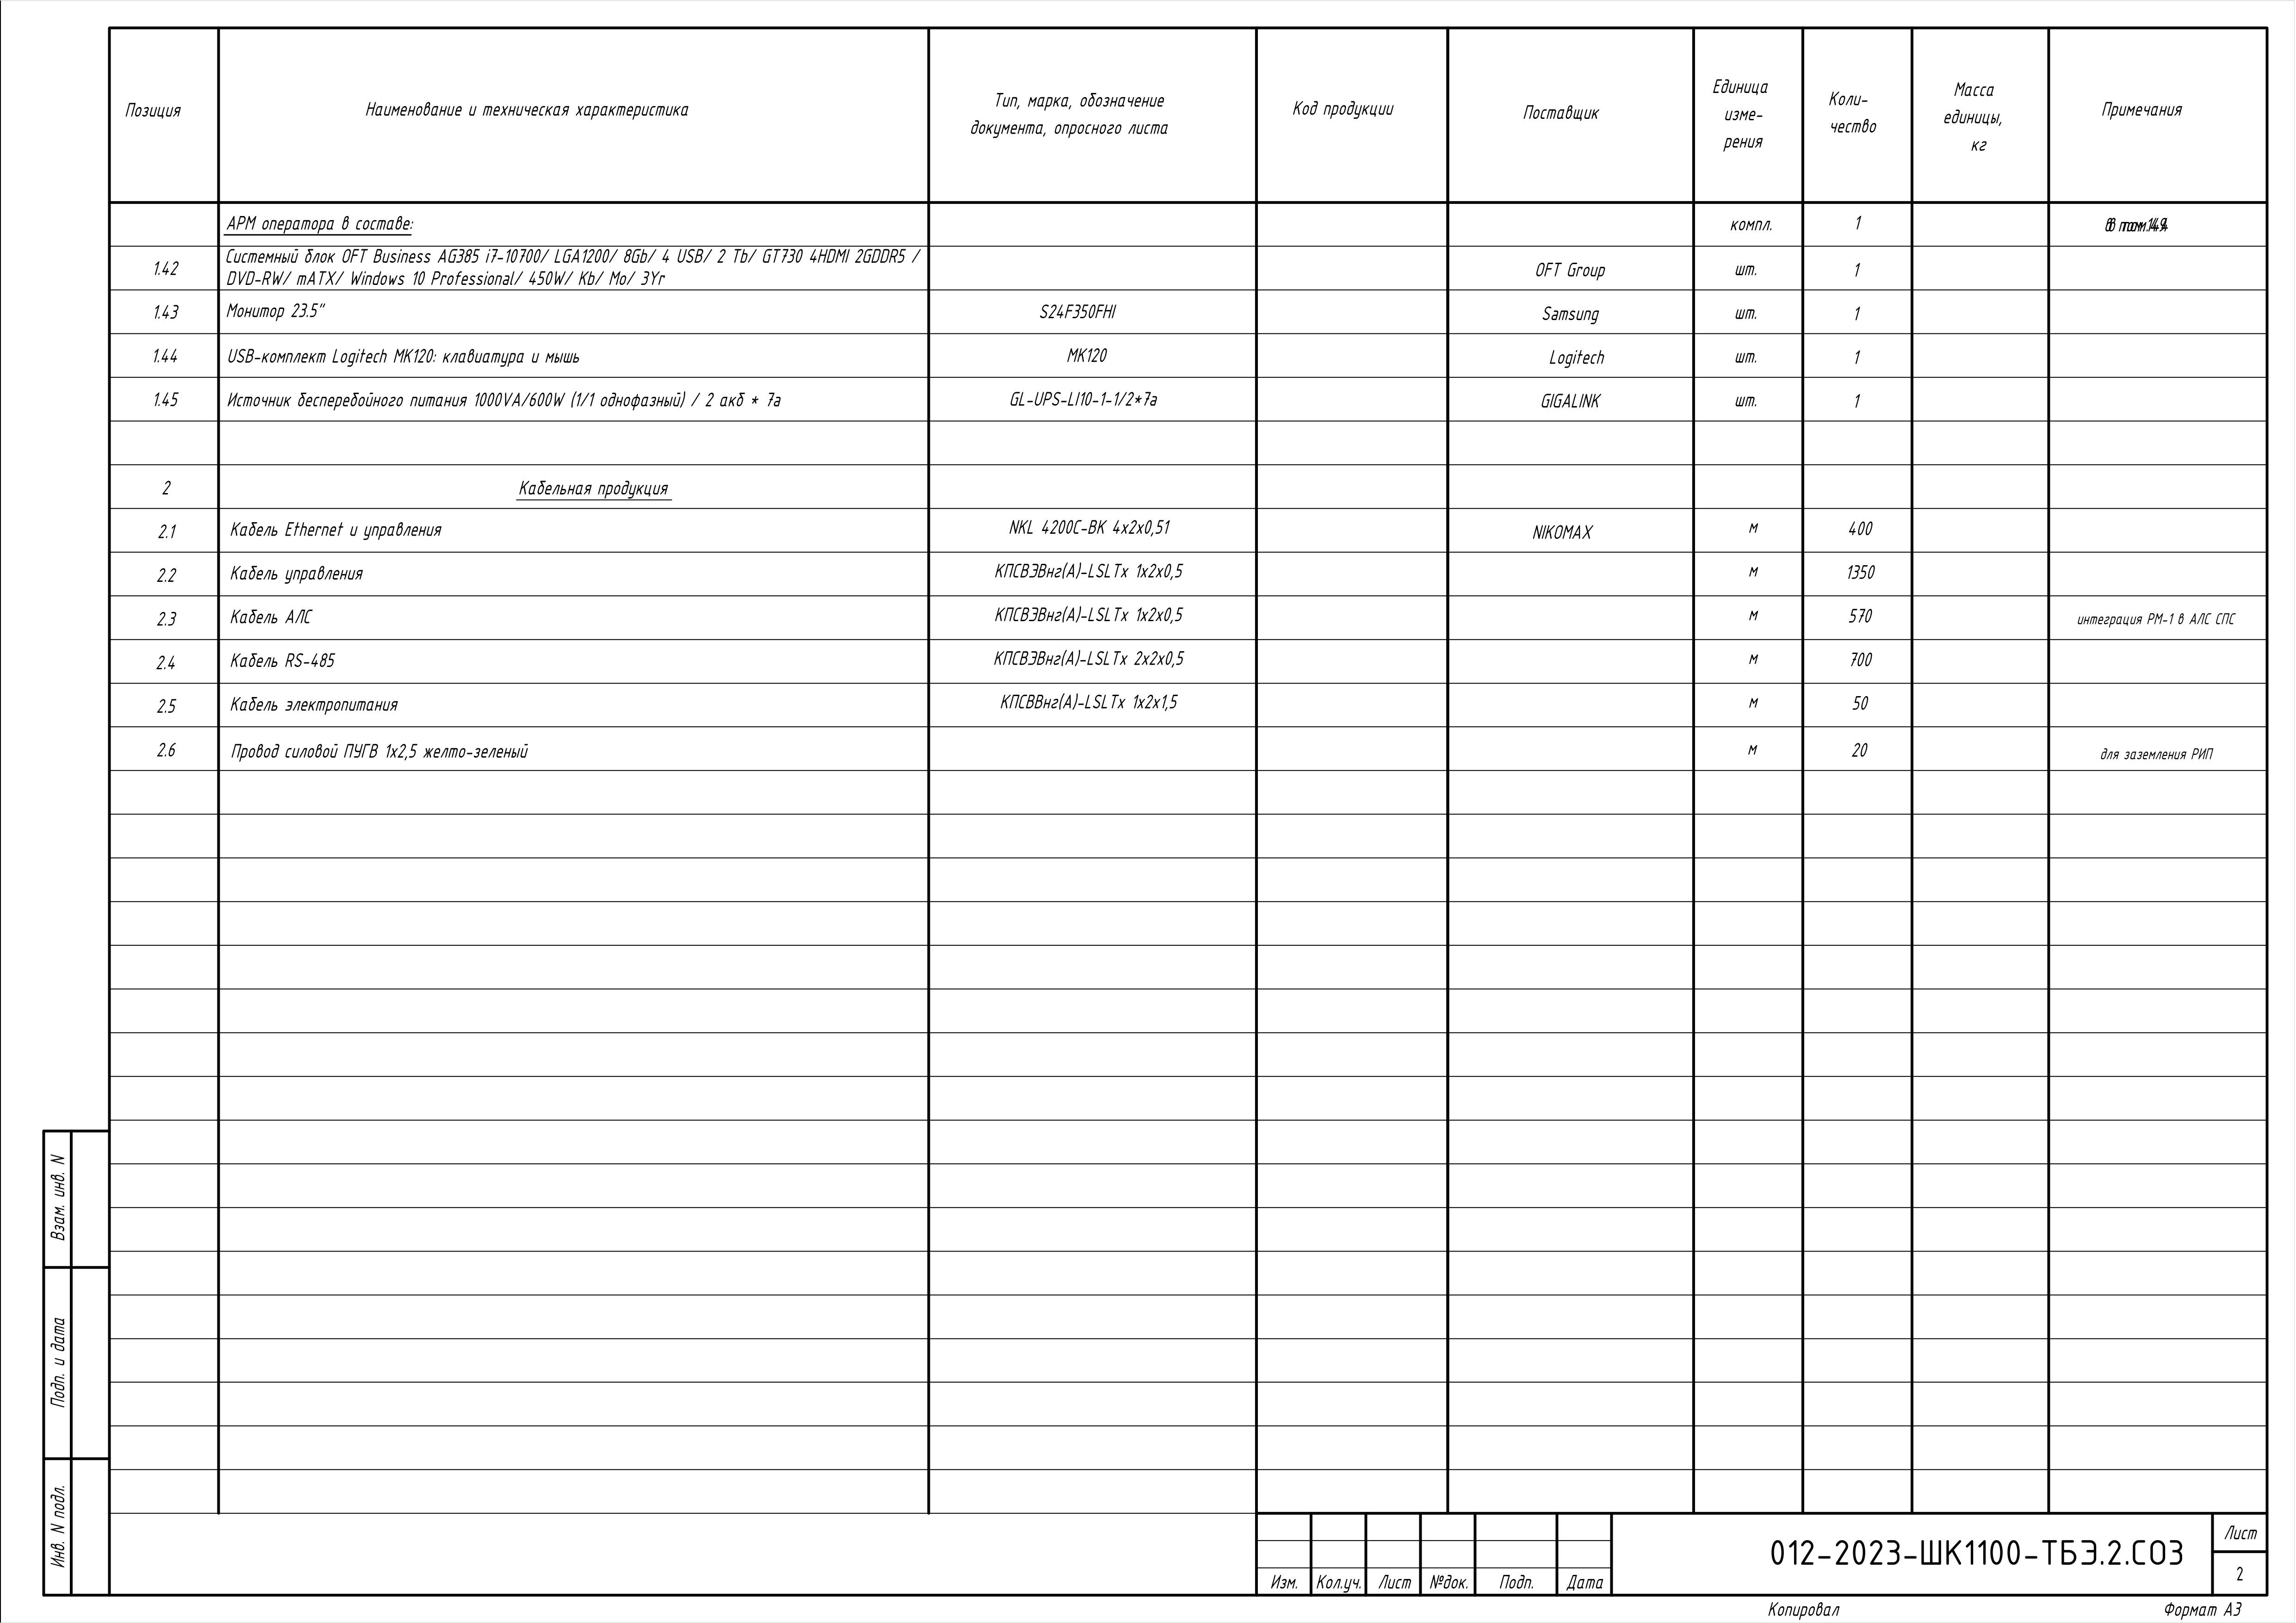Name of costs: (220, 202, 929, 1514)
Note: (929, 204, 1258, 1514)
Quantity: (1804, 202, 1911, 1514)
Unit of measurement: (1693, 202, 1804, 1511)
